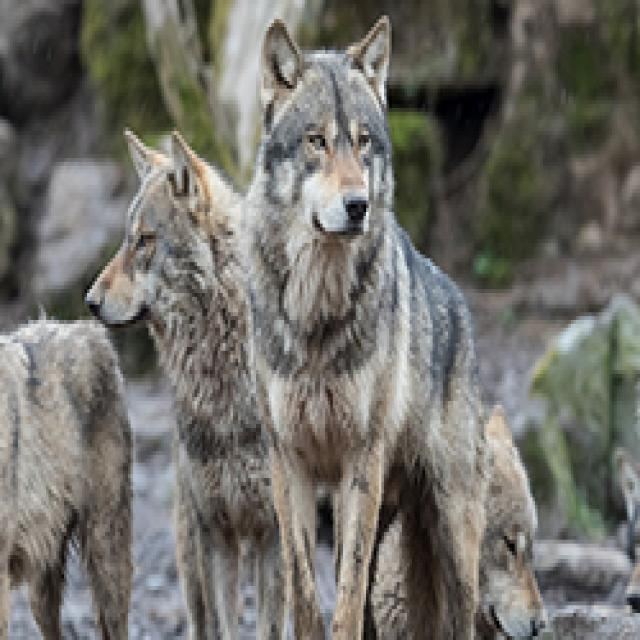wolf: (228, 0, 504, 640), (105, 112, 297, 640), (0, 177, 159, 640)
